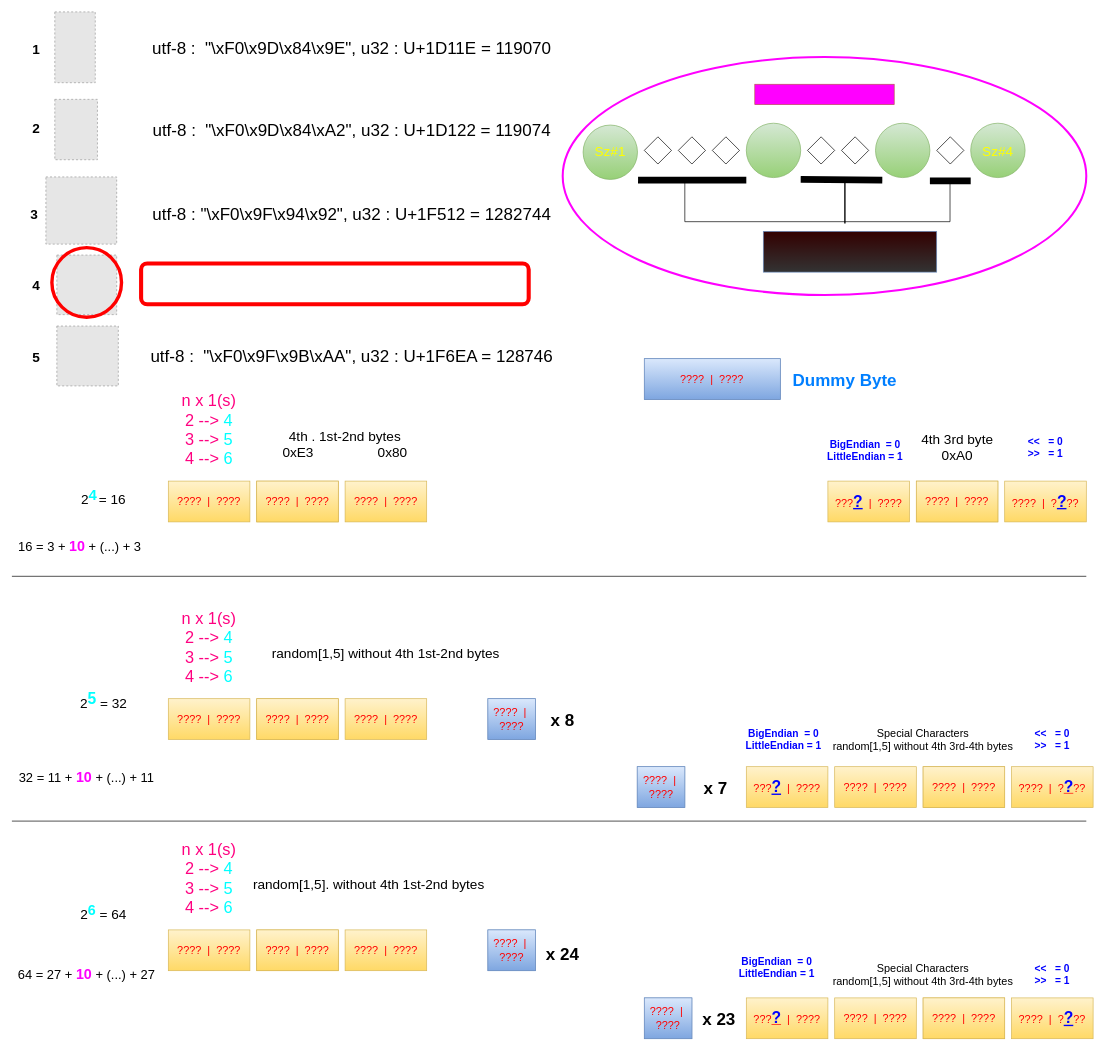
The diagram is 1108 pixels wide and 1051 high, and some of its shapes have lost their labels. Grey dashed boxes stand in for pictures. The centre of each missing label's shape, as x and y in pixels:
n bits in diamonds means shiftbits: (850,251)
Sz#2: (773,150)
Sz#3: (902,150)
Total 4 + 6 = 10 bits: (824,94)
utf-8 : "\xE3\x80\xA0", u32 : U+3020 = 12320: (334,283)
